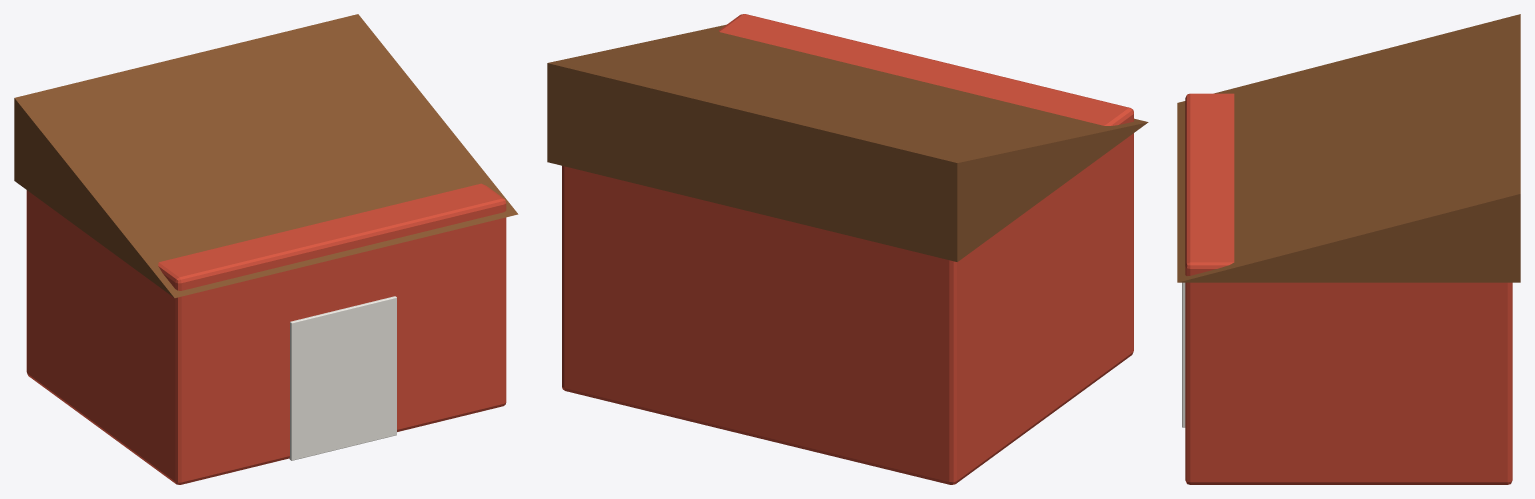
File: Bike_Barn.fbx
The picture shows the model from 3 angles, left to right: view 1: azimuth 30°, elevation 25°; view 2: azimuth 150°, elevation 25°; view 3: azimuth 270°, elevation 25°; orthographic projection. The views are drawn at different scales.
Visible parts, largest first — view 1: Barn; view 2: Barn; view 3: Barn.
Boxes of the visible parts, bbox=[...] form: Barn: bbox=[14, 14, 518, 484]; Barn: bbox=[547, 14, 1148, 484]; Barn: bbox=[1177, 14, 1520, 484].
Size of the model in its own units: 5.2 by 4 by 4.2.
